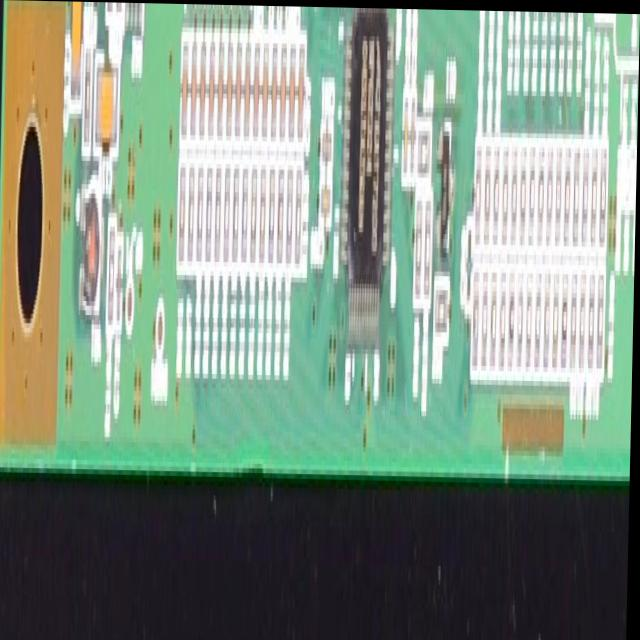IC: (338, 6, 396, 367)
capacitor: (94, 72, 113, 143), (216, 32, 227, 143), (198, 36, 209, 146), (188, 36, 199, 140), (286, 47, 297, 148), (279, 33, 289, 141), (69, 1, 80, 99), (234, 41, 245, 139), (115, 240, 125, 346), (408, 73, 417, 190), (180, 41, 190, 141), (269, 33, 278, 144), (208, 36, 216, 142), (261, 37, 269, 137), (297, 38, 304, 149), (253, 42, 261, 137), (245, 42, 253, 127), (226, 51, 234, 134), (319, 169, 330, 225), (403, 101, 410, 186), (322, 122, 333, 167)
resistor: (567, 267, 581, 377), (490, 149, 502, 257), (422, 204, 434, 311), (532, 276, 545, 372), (596, 268, 607, 380), (82, 48, 93, 156), (292, 159, 303, 266), (222, 168, 234, 266), (516, 261, 526, 378), (177, 167, 188, 273), (267, 154, 277, 270), (542, 276, 553, 378), (435, 274, 452, 339), (186, 162, 196, 272), (258, 159, 268, 268), (415, 194, 425, 301), (559, 276, 570, 372), (196, 167, 206, 271), (518, 149, 528, 252), (417, 119, 433, 183), (276, 164, 286, 266), (241, 159, 250, 268), (108, 222, 117, 331), (598, 141, 608, 238), (474, 139, 483, 245), (214, 172, 224, 267), (525, 290, 535, 385), (551, 281, 562, 367), (526, 149, 536, 243), (250, 173, 259, 277), (490, 270, 499, 374), (484, 149, 493, 252), (500, 158, 511, 242), (286, 169, 296, 260), (510, 149, 519, 248), (499, 266, 508, 364), (536, 154, 546, 242), (553, 159, 563, 245), (232, 177, 242, 262), (205, 176, 214, 269), (587, 272, 597, 354), (482, 265, 489, 368), (508, 285, 516, 374), (590, 150, 598, 238), (583, 146, 590, 246), (580, 286, 588, 368), (474, 265, 481, 358), (546, 159, 554, 240), (565, 169, 573, 239), (573, 160, 580, 238), (116, 2, 122, 21), (106, 2, 112, 11), (122, 264, 122, 269)
transistor: (436, 120, 455, 256)
